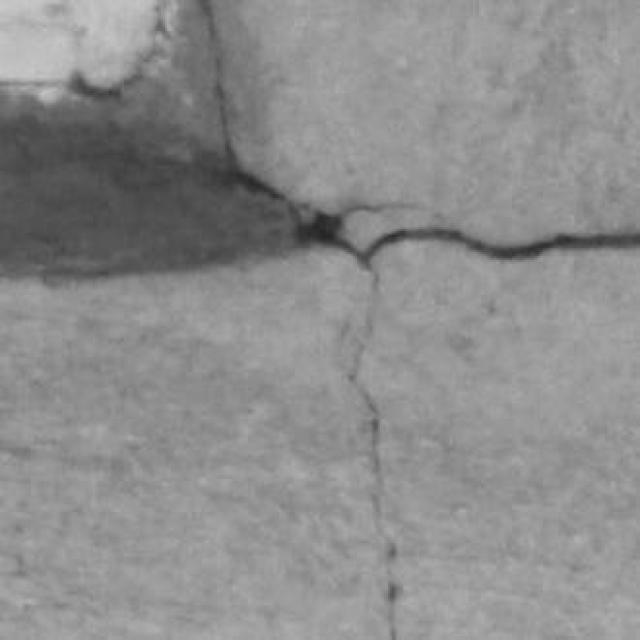crack: (348, 264, 401, 639), (64, 0, 172, 102), (352, 227, 639, 263), (196, 0, 240, 170)
